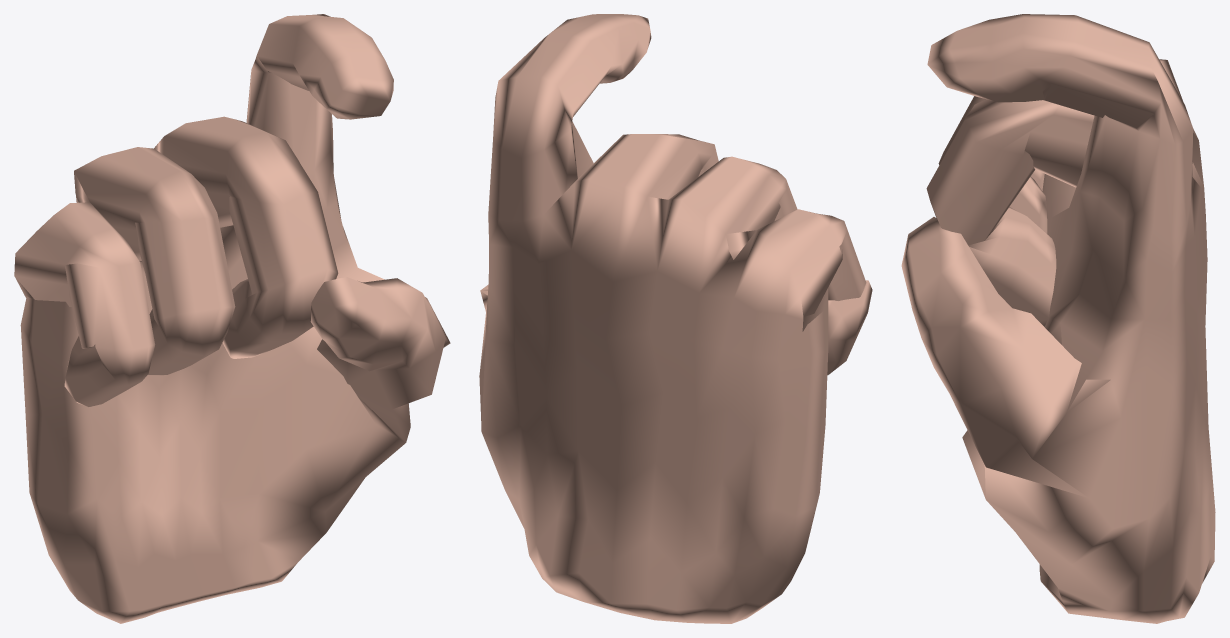
Rendered from FLEXIONADO1.obj.
3 renders of one model, left to right at view 1: azimuth 30°, elevation 25°; view 2: azimuth 150°, elevation 25°; view 3: azimuth 270°, elevation 25°, orthographic. The views are drawn at different scales.
Visible parts, largest first — view 1: mao_dir:mao_dir; view 2: mao_dir:mao_dir; view 3: mao_dir:mao_dir.
Boxes of the visible parts, x1=… form: mao_dir:mao_dir: x1=14, y1=14, x2=450, y2=623; mao_dir:mao_dir: x1=479, y1=14, x2=872, y2=623; mao_dir:mao_dir: x1=901, y1=14, x2=1215, y2=623.
Size of the model in its own units: 136 by 185 by 85.51.
